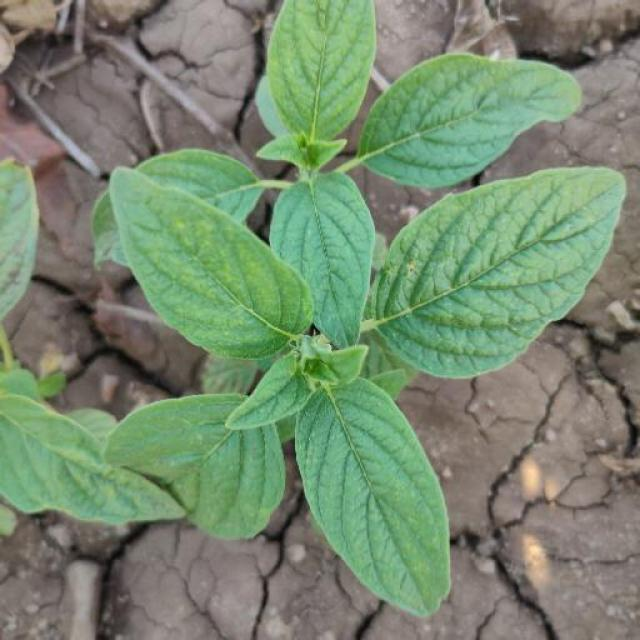crop: (1, 1, 630, 620)
